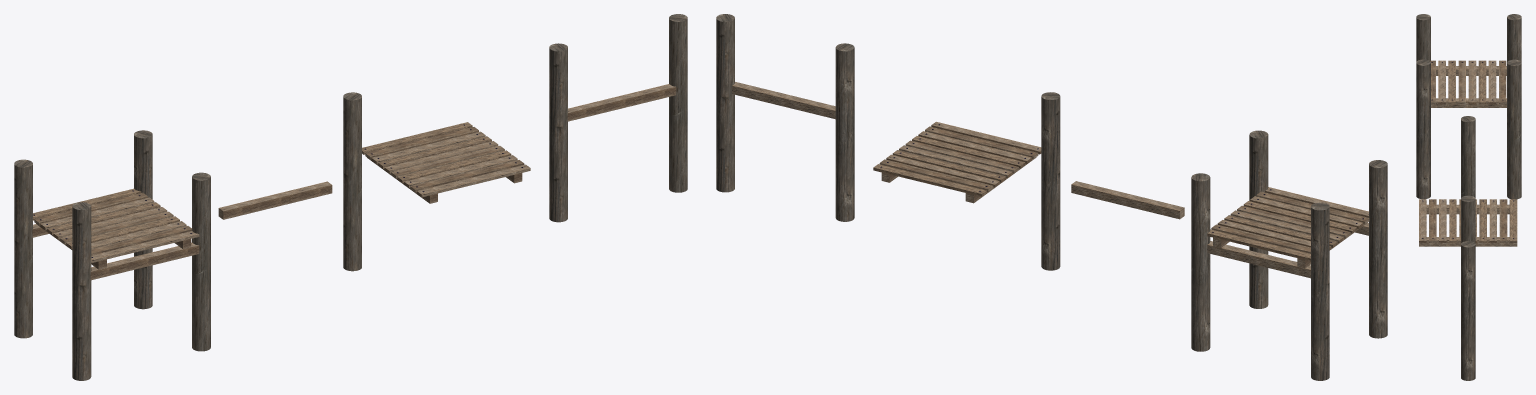
File: Plataforma madera.fbx
3 views of the same model, side by side, from view 1: azimuth 30°, elevation 25°; view 2: azimuth 150°, elevation 25°; view 3: azimuth 270°, elevation 25° (orthographic). The views are drawn at different scales.
Parts seen in each view (by area): view 1: completo, Columas + viga, Piso madera, Columna, Viga; view 2: completo, Columas + viga, Piso madera, Columna, Viga; view 3: completo, Piso madera, Columas + viga, Columna.
Boxes of the visible parts, box(x1,y1,x2,y2) form: completo: box(14, 130, 210, 380); Columas + viga: box(549, 14, 687, 222); Piso madera: box(362, 122, 530, 203); Columna: box(343, 92, 361, 271); Viga: box(218, 181, 332, 219); completo: box(1191, 130, 1387, 380); Columas + viga: box(716, 14, 854, 221); Piso madera: box(873, 121, 1041, 203); Columna: box(1041, 92, 1060, 270); Viga: box(1071, 181, 1184, 219); completo: box(1416, 14, 1521, 199); Piso madera: box(1419, 199, 1517, 246); Columas + viga: box(1461, 195, 1475, 380); Columna: box(1461, 116, 1475, 197).
Size of the model in its own units: 2358 by 655 by 430.
Materials: 3 (2 with a texture image).
